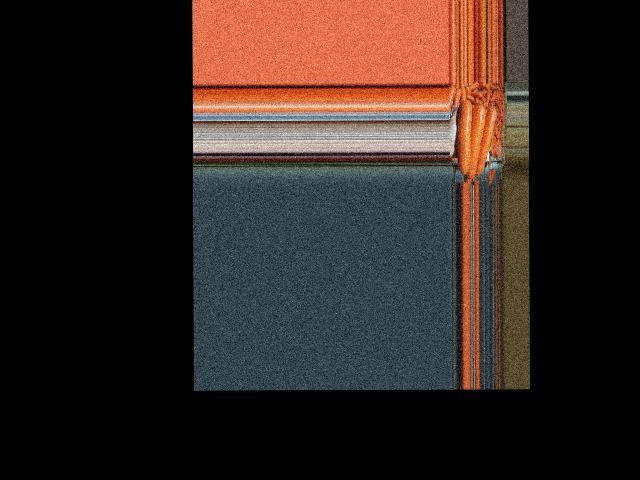carrot: (457, 98, 476, 177)
